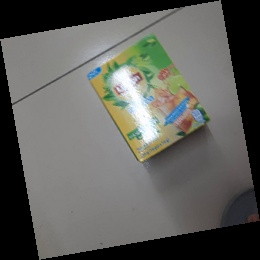LipTon: (86, 31, 212, 167)
